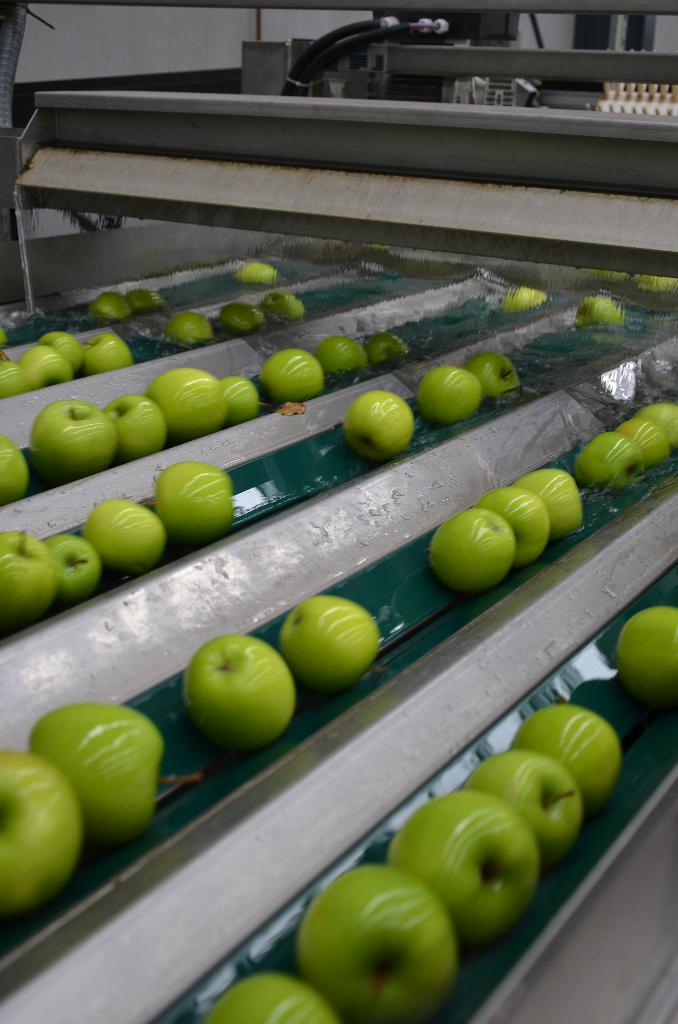Apple: (0, 332, 404, 502), (423, 406, 677, 595), (0, 287, 306, 399), (296, 868, 460, 1023), (24, 702, 198, 847), (397, 794, 539, 950), (460, 750, 585, 868), (185, 627, 304, 750), (0, 749, 79, 920), (509, 700, 621, 817), (278, 590, 383, 693), (194, 973, 338, 1023), (611, 604, 677, 711), (0, 525, 62, 632), (154, 462, 233, 539), (79, 494, 167, 563), (345, 390, 418, 465), (46, 533, 100, 597), (416, 369, 480, 423), (460, 350, 523, 399), (578, 294, 630, 322), (233, 257, 278, 285), (89, 291, 129, 322), (502, 287, 551, 308), (126, 289, 167, 308)
